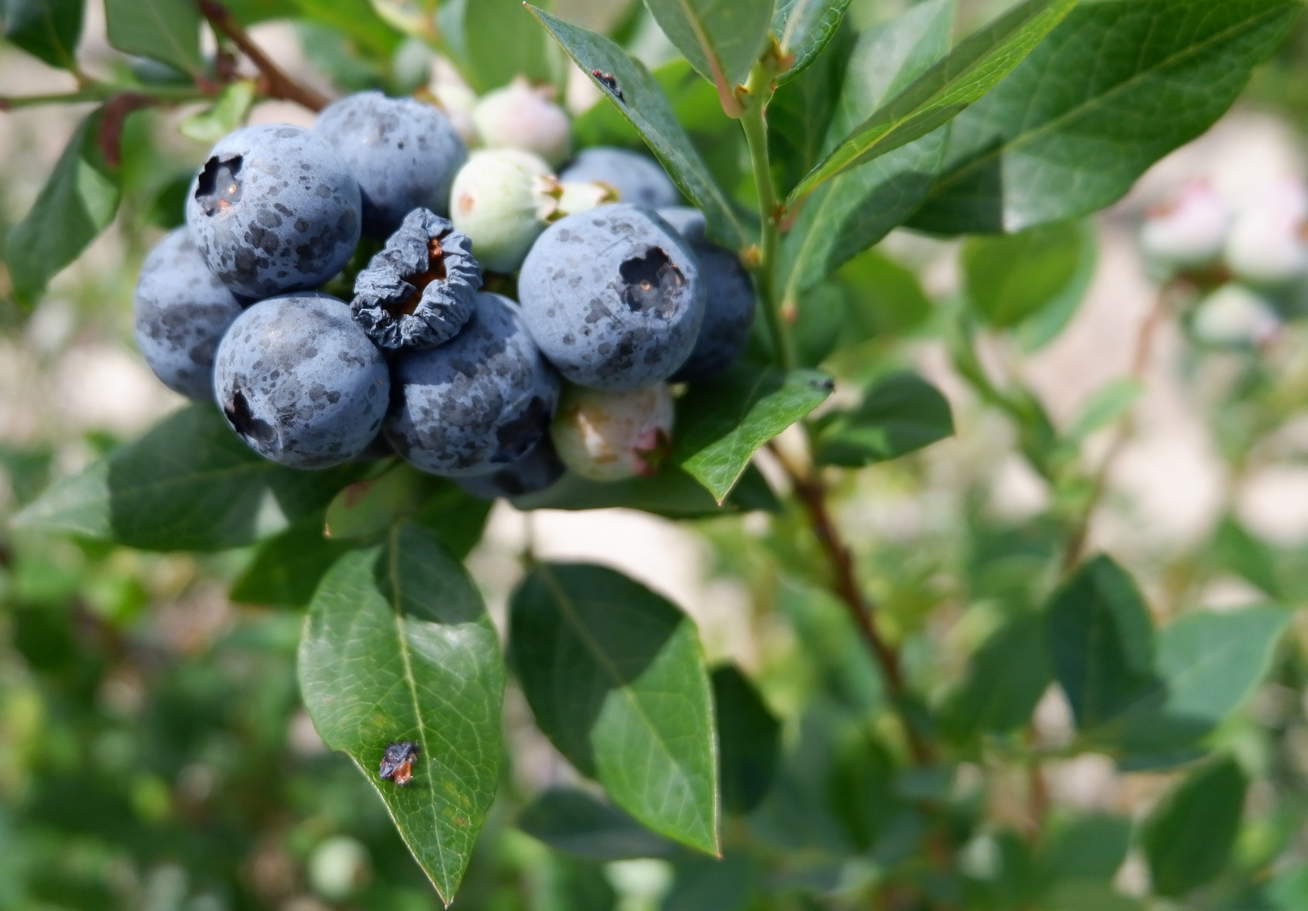Immature: (450, 150, 554, 270), (553, 382, 672, 479), (472, 76, 570, 164)
Mature: (520, 202, 697, 388), (383, 298, 556, 474), (189, 125, 356, 294), (216, 296, 382, 464), (317, 95, 466, 239), (132, 228, 243, 396), (660, 208, 754, 383), (352, 218, 477, 349), (558, 149, 678, 215), (457, 435, 562, 498), (251, 103, 315, 127)
